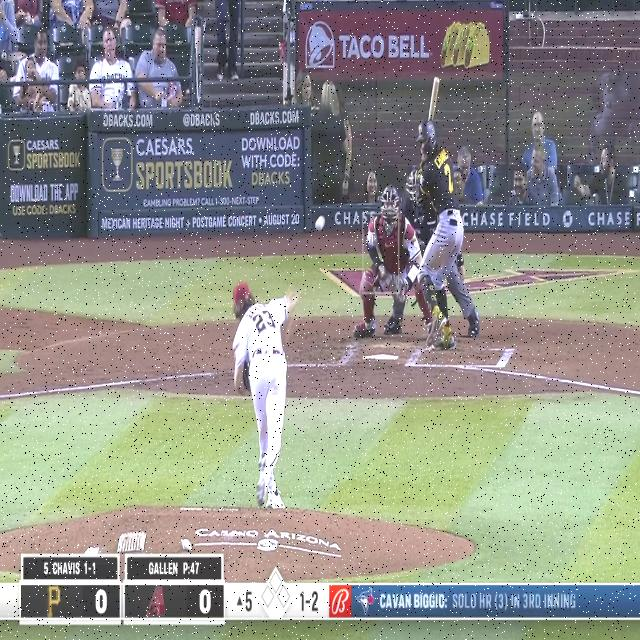baseball: (315, 215, 325, 232)
